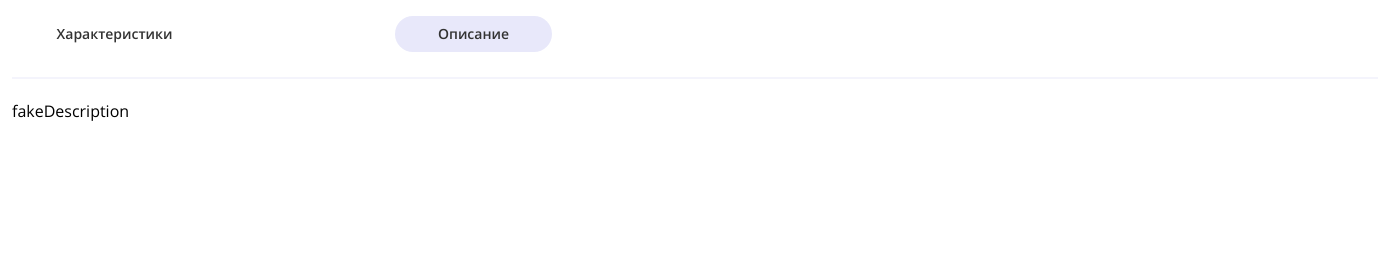
Scenario: Tabs component › should switch tab content on tab title click
Expected: the element with test id "tab-description" is shown, x1=12 y1=100 x2=129 y2=122
Click the button "Характеристики".
click(114, 34)  # box x1=36 y1=16 x2=193 y2=52
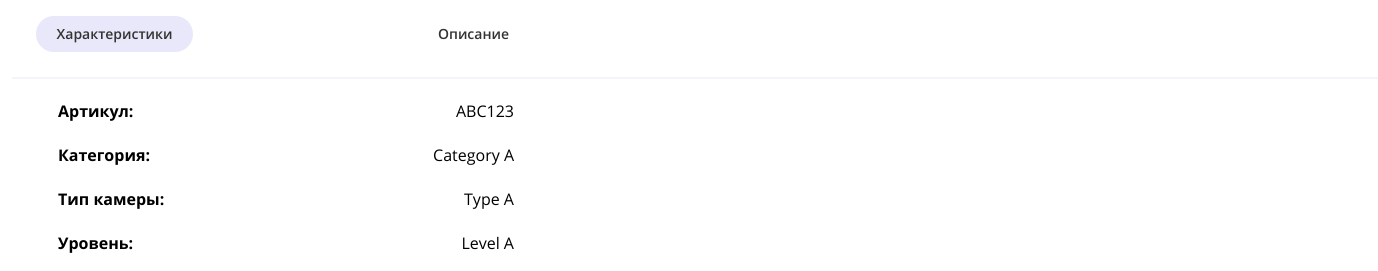
Result: the element with test id "tab-specs" is shown at x1=58 y1=100 x2=514 y2=254
Result: the element with test id "tab-description" is gone
Click the button "Описание".
click(474, 34)  # box x1=395 y1=16 x2=552 y2=52
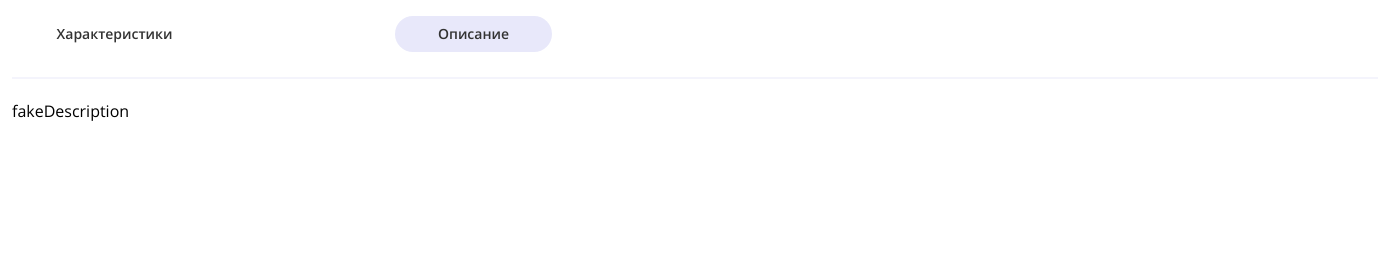
Result: the element with test id "tab-description" is shown at x1=12 y1=100 x2=129 y2=122
